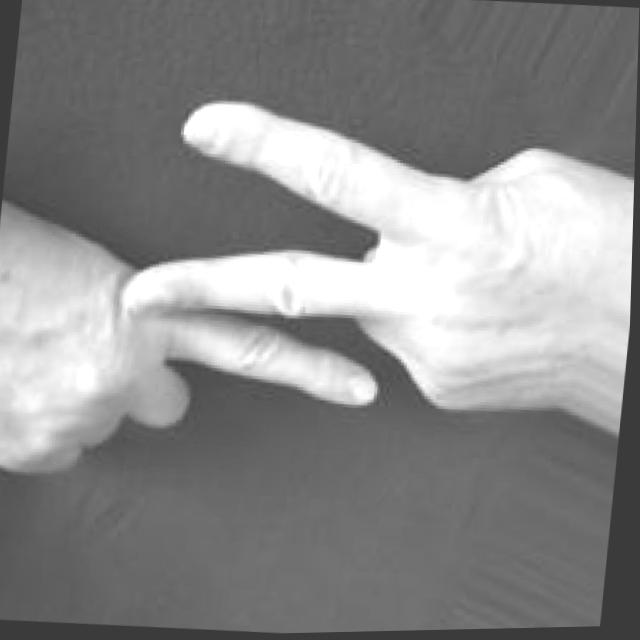Z: (0, 68, 638, 517)
